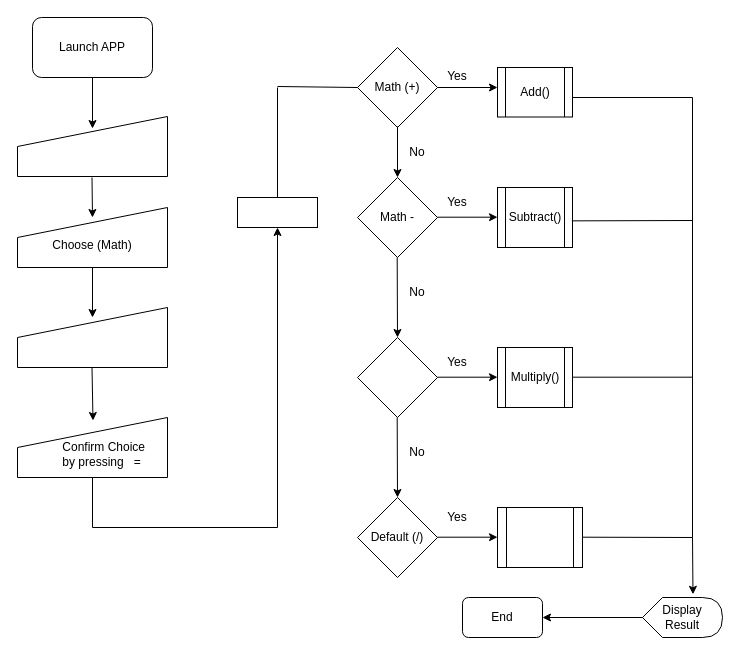
This 740x655 diagram has some shape labels left out. The shapes that lost their labels are listed below. From the top down, each one's centre as x and y in pixels, then its label:
[92,146]: Input a
[277,212]: if (math)
[92,337]: Input b
[397,377]: Math *
[539,537]: Divide()
